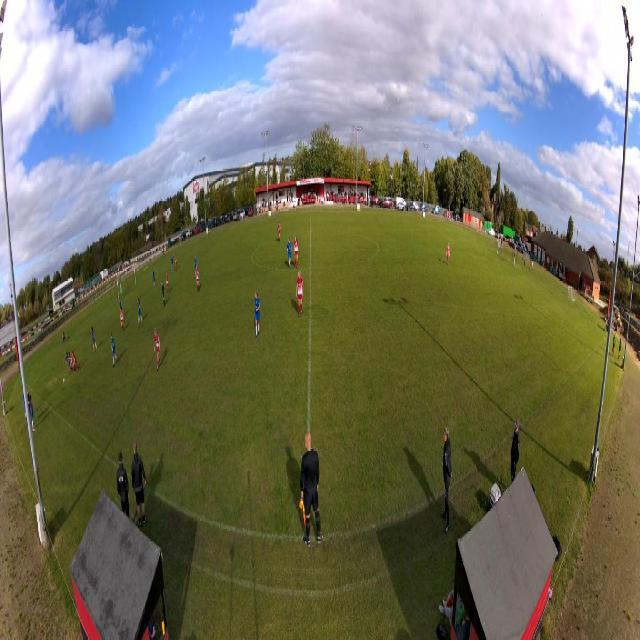ball: (63, 377, 66, 384)
player: (295, 269, 304, 319), (154, 326, 162, 373), (254, 289, 261, 341), (110, 331, 119, 369), (293, 234, 299, 271), (70, 350, 80, 371), (287, 237, 293, 271), (91, 325, 98, 353), (137, 297, 143, 326), (68, 351, 75, 372), (161, 281, 166, 309), (120, 306, 125, 333), (65, 352, 71, 374), (196, 264, 200, 294), (446, 241, 450, 267), (165, 271, 169, 296), (118, 297, 122, 322), (277, 221, 281, 242), (152, 268, 156, 289), (194, 254, 197, 281), (119, 281, 123, 299), (175, 252, 178, 271), (171, 254, 174, 273)
